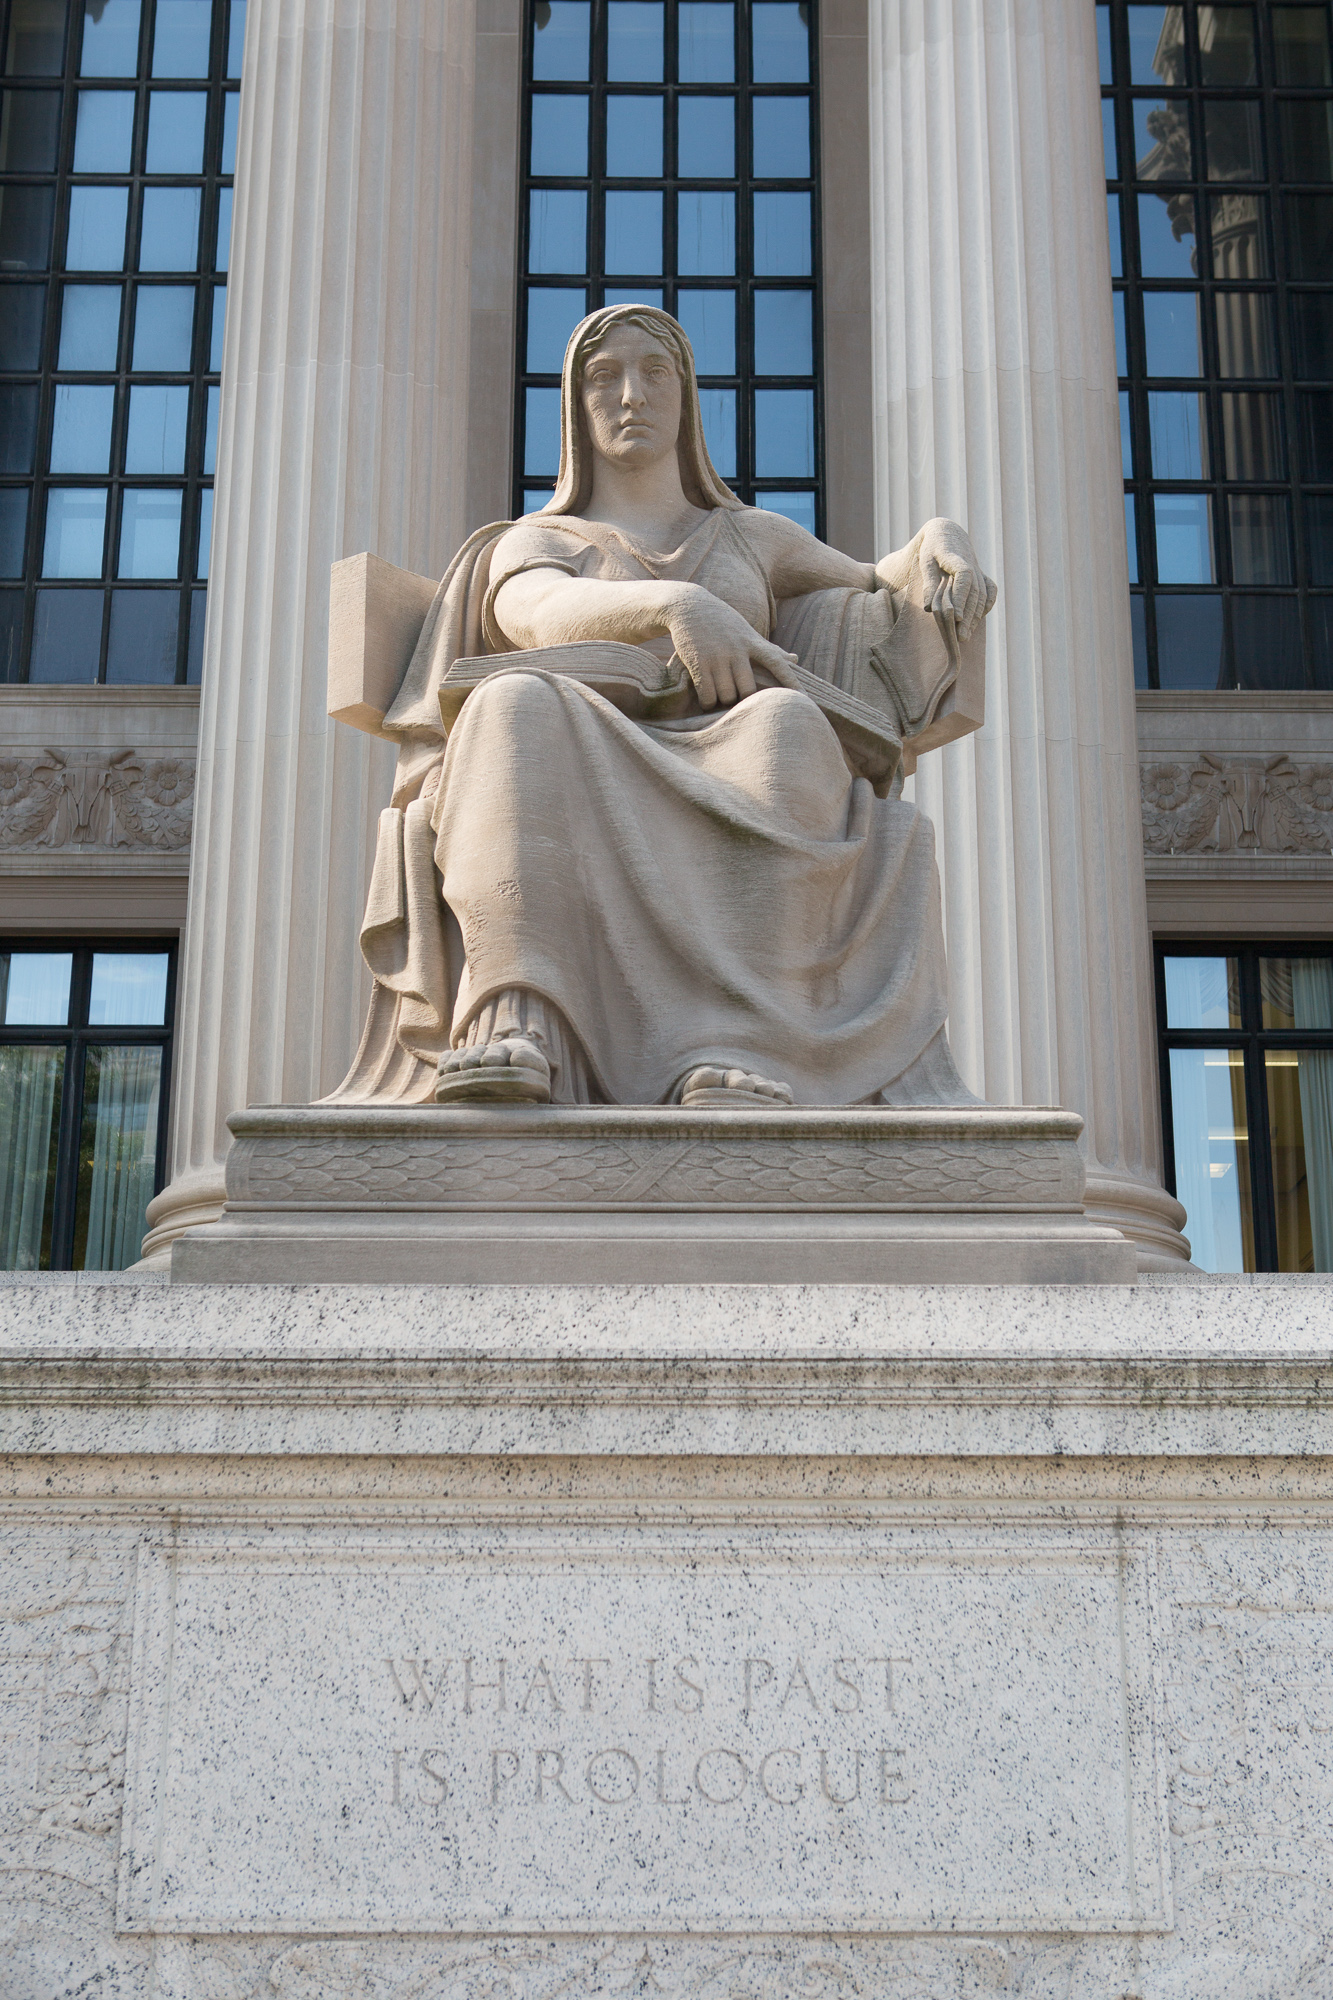person-like: (379, 284, 994, 1123)
